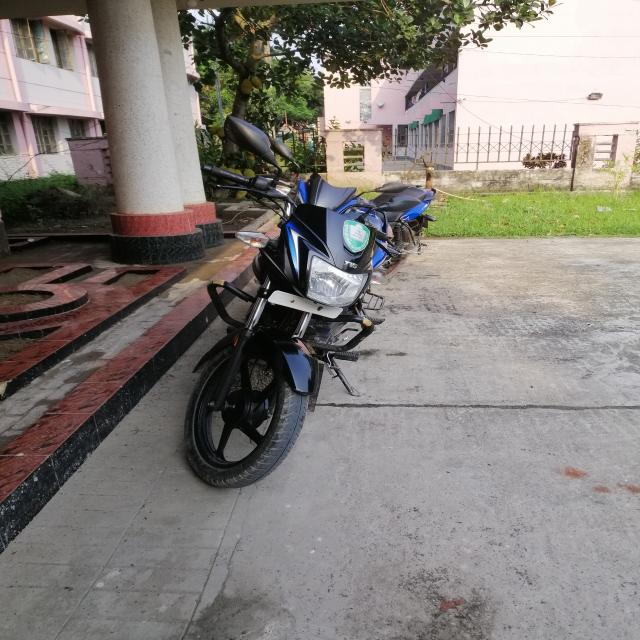Motorbike: (166, 114, 427, 490)
